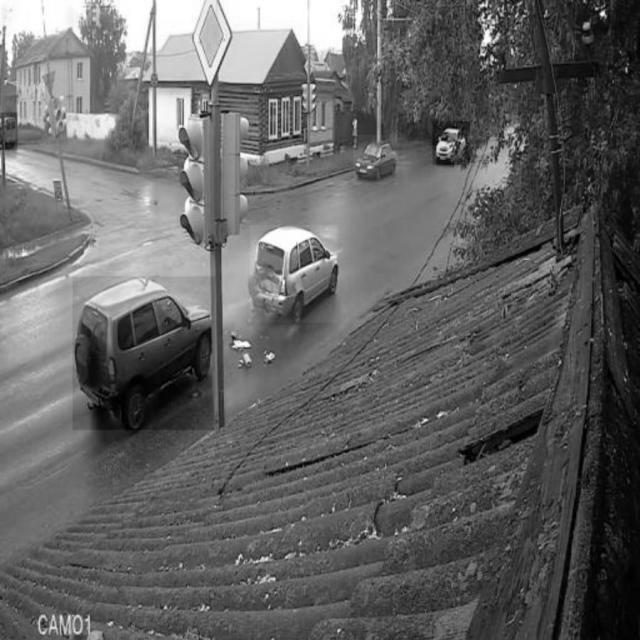vehicle: (73, 277, 215, 431), (250, 226, 338, 324), (354, 136, 399, 186), (433, 121, 470, 165), (0, 113, 17, 150)
